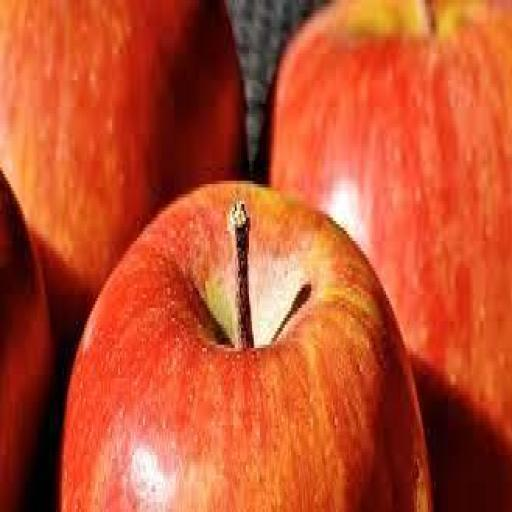apple: (61, 185, 431, 511)
